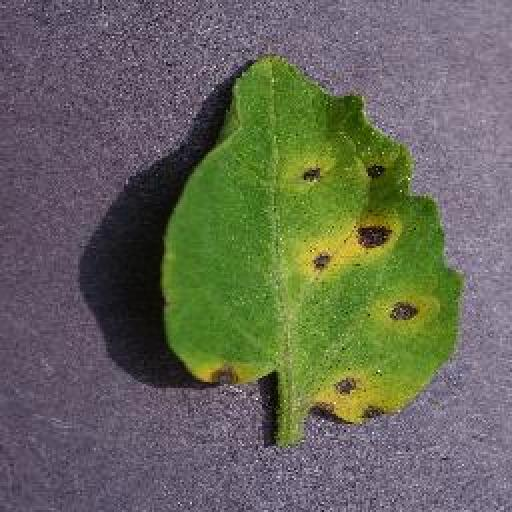disease_tomato: (162, 52, 460, 424)
